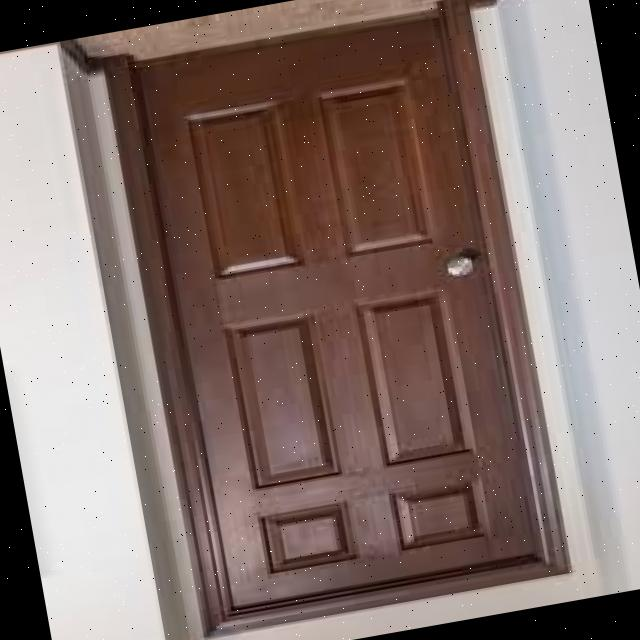Door: (74, 0, 584, 640)
